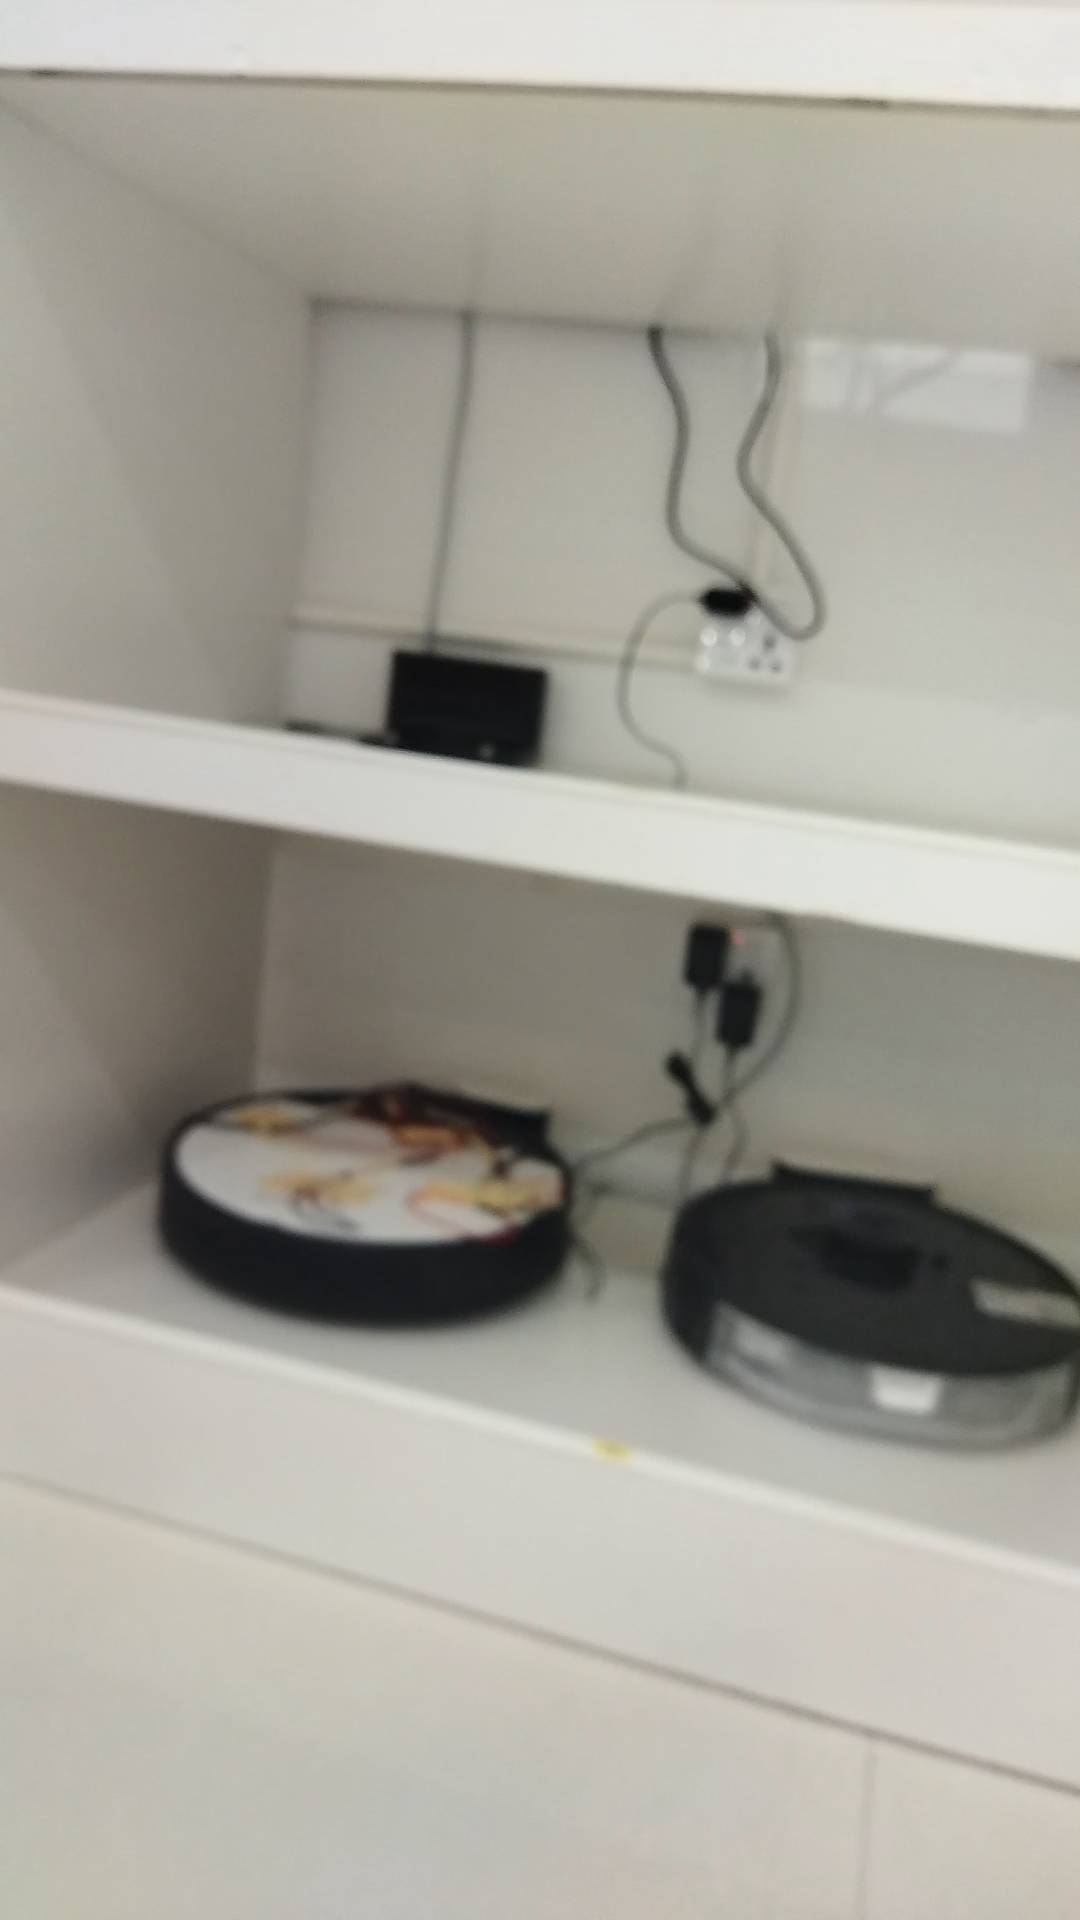recharge seat: (371, 654, 550, 771)
